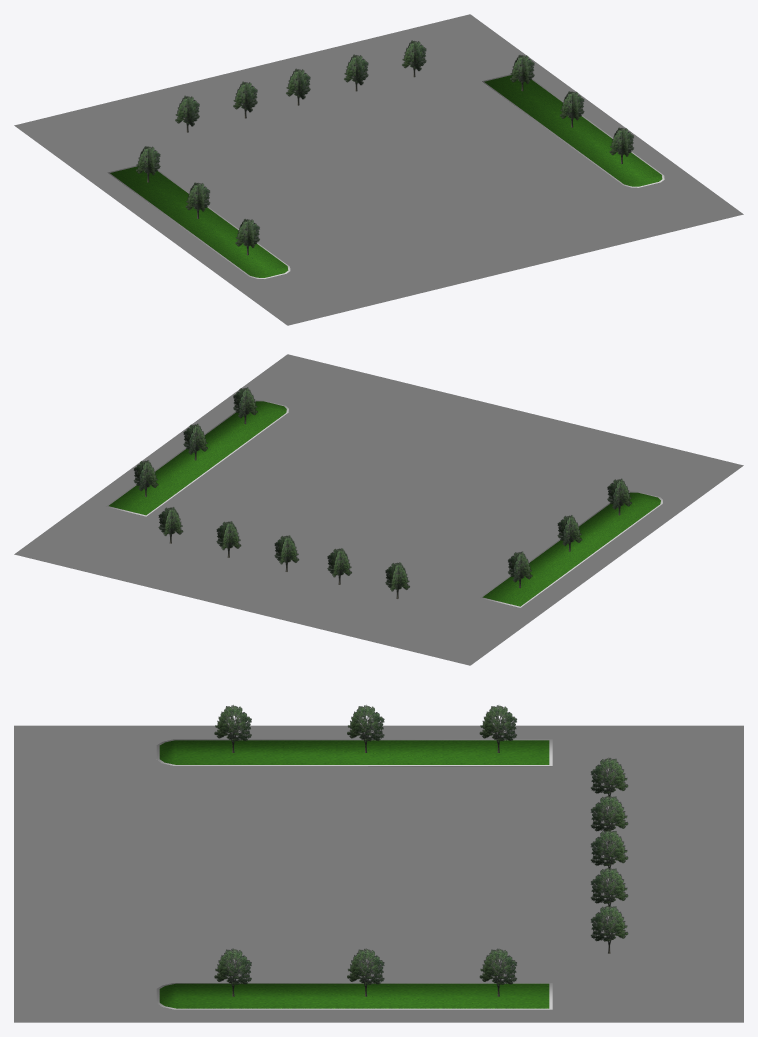
The model's file is cyv_0f_mini.gltf.
3 renders of one model, top to bottom at view 1: azimuth 30°, elevation 25°; view 2: azimuth 150°, elevation 25°; view 3: azimuth 270°, elevation 25°, orthographic. The views are drawn at different scales.
Visible parts, largest first — view 1: dimian, dimian_17, dimian_23, dimian_12, dimian_16; view 2: dimian, dimian_23, dimian_17, dimian_12, dimian_16; view 3: dimian, dimian_17, dimian_23, dimian_16, dimian_12, dimian_10, dimian_5, dimian_18, dimian_22, dimian_11, dimian_13, dimian_14 (+4 smaller).
Part boxes in pixels (x1,y1,x2,y2): dimian: [14, 14, 743, 325]; dimian_17: [484, 75, 662, 186]; dimian_23: [110, 166, 288, 277]; dimian_12: [481, 74, 664, 187]; dimian_16: [107, 165, 290, 279]; dimian: [14, 354, 743, 665]; dimian_23: [482, 492, 660, 606]; dimian_17: [109, 401, 286, 515]; dimian_12: [105, 400, 288, 516]; dimian_16: [480, 491, 662, 607]; dimian: [14, 725, 743, 1022]; dimian_17: [159, 983, 549, 1008]; dimian_23: [159, 740, 549, 764]; dimian_16: [156, 739, 552, 766]; dimian_12: [156, 983, 552, 1009]; dimian_10: [479, 948, 516, 996]; dimian_5: [214, 948, 251, 996]; dimian_18: [479, 705, 516, 752]; dimian_22: [214, 705, 251, 752]; dimian_11: [590, 905, 628, 953]; dimian_13: [347, 948, 384, 996]; dimian_14: [347, 705, 384, 752].
Bounding box in the file's own units: 250 × 20.64 × 259.
4 materials, 2 textured.
